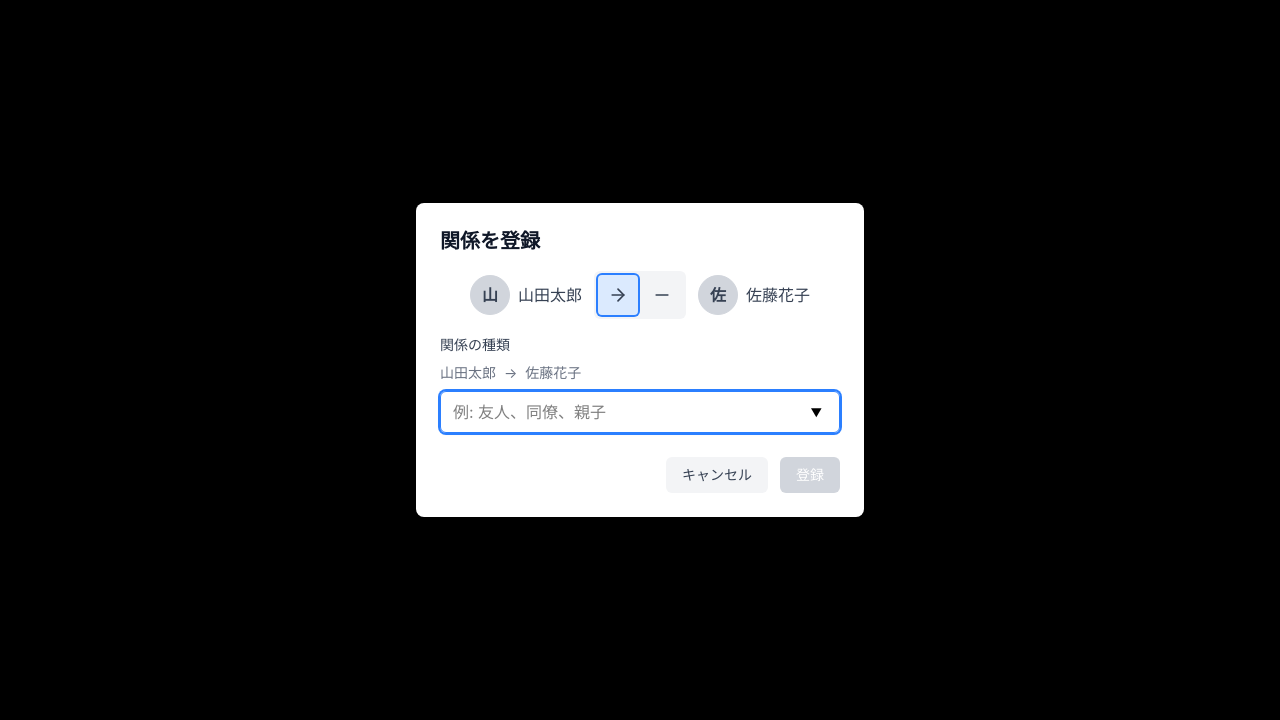
Test: RelationshipRegistrationModal › 関係タイプ入力 › タイプを入力すると登録ボタンが有効化される
Type "友人" into the field labelled "関係の種類".
click(640, 412); type("友人")  # box [440,391,840,433]
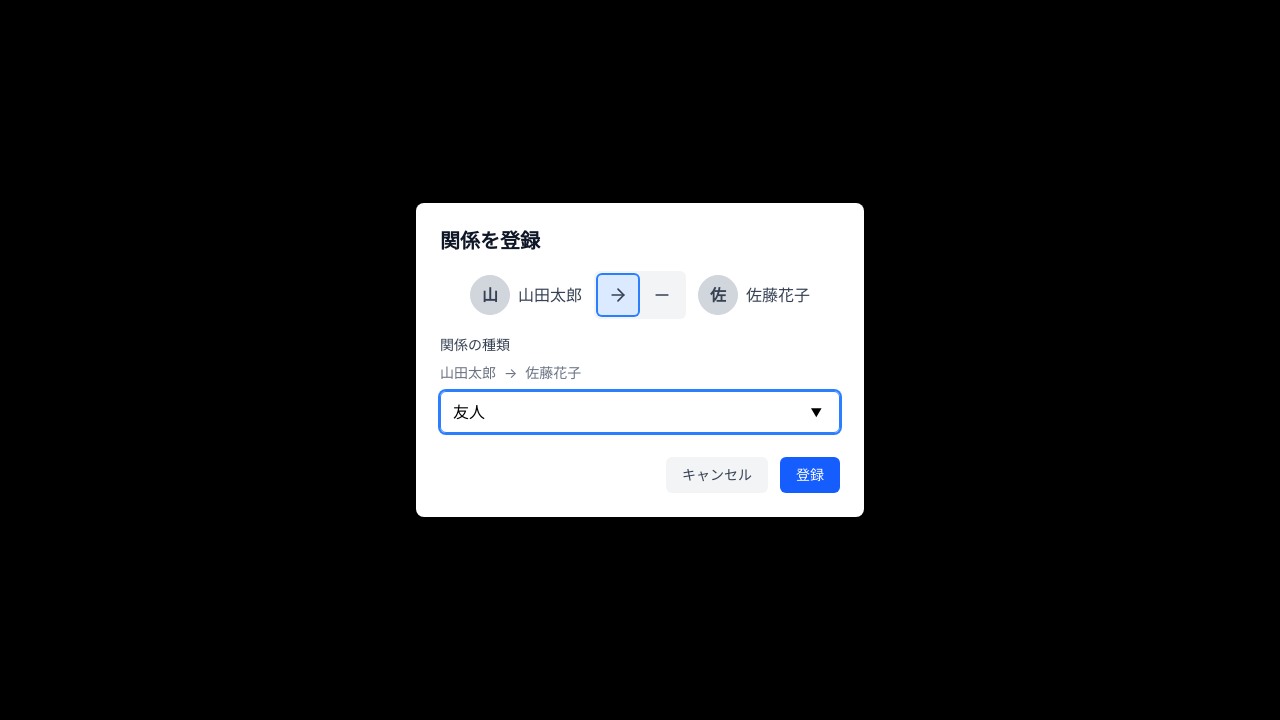
Expected: the button "登録" is enabled, [780,457,840,493]
